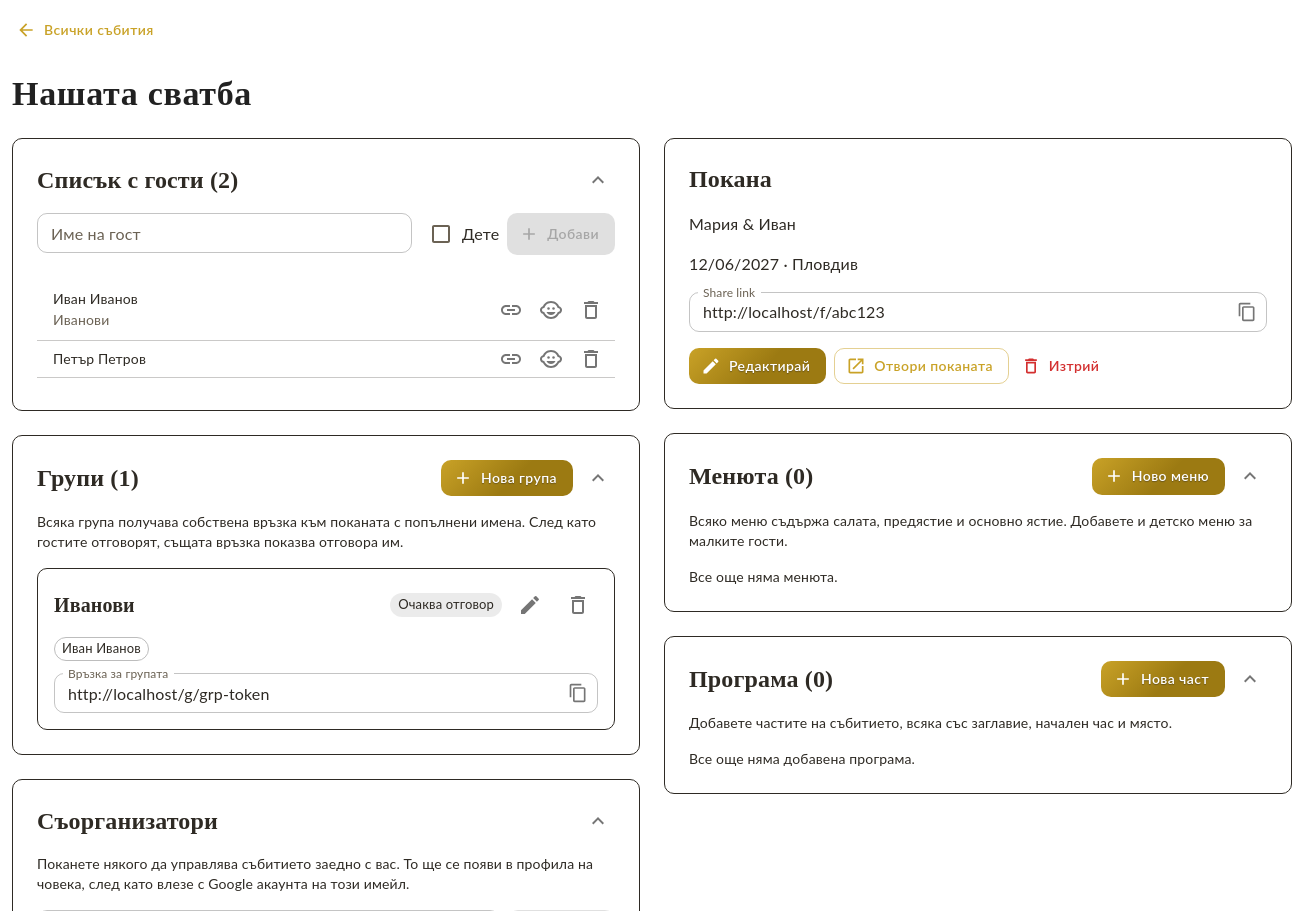
Test: EventPage › removes a guest from the list and from their group
Click the button named "Премахни Иван Иванов".
click(591, 310)  # box [571,290,611,330]
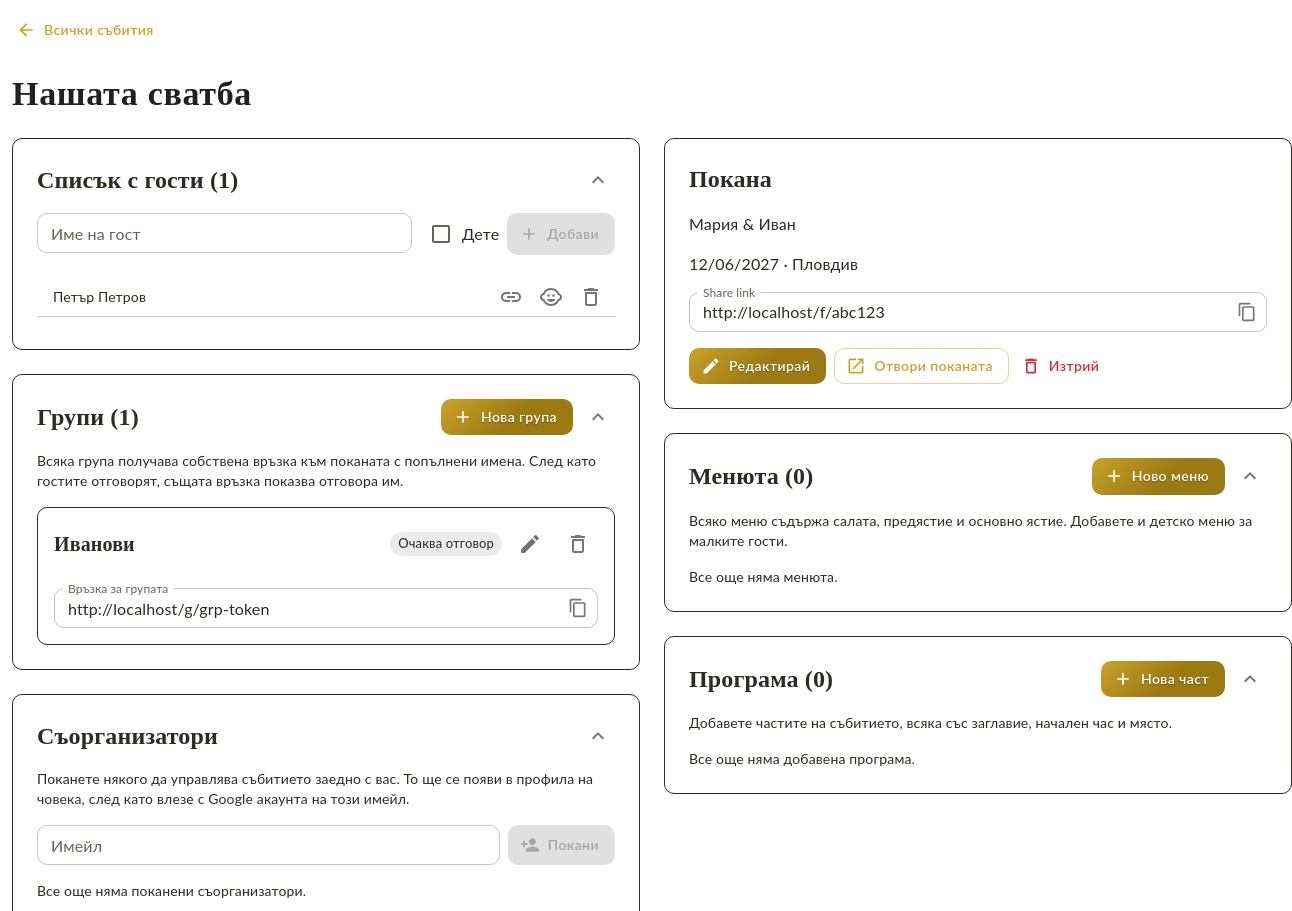
Expected: the element "Иванови" is shown, [37,507,615,645]
Expected: the text "Иван Иванов" is gone
